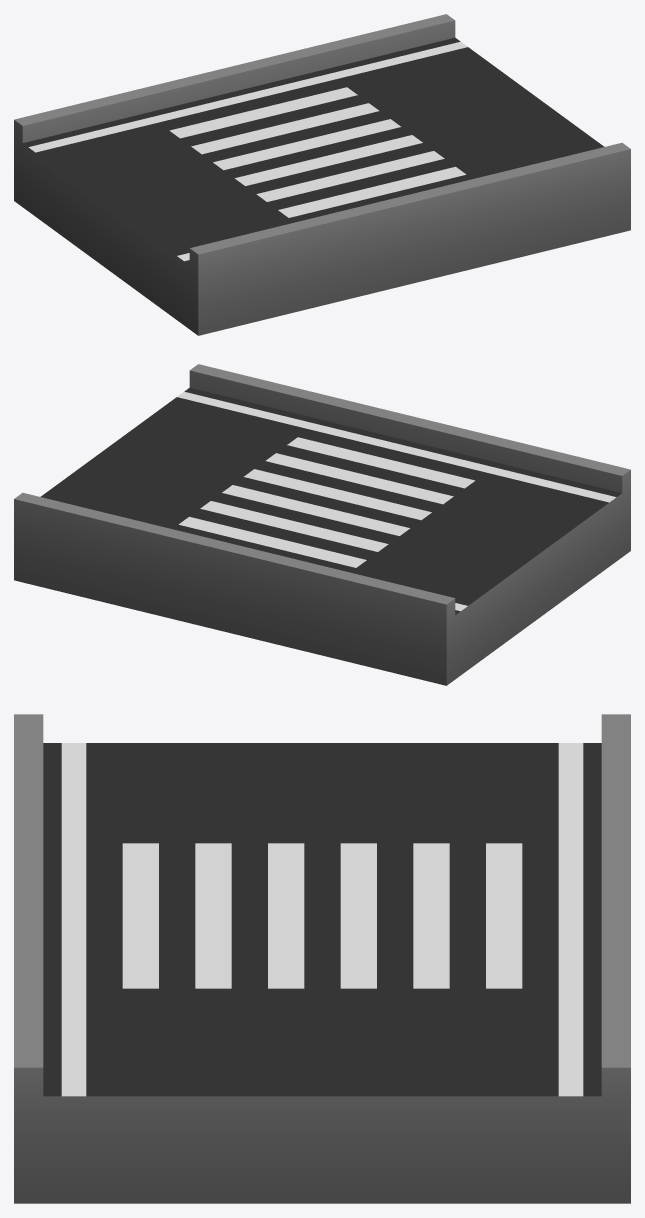
Rendered from Crosswalk_Straight.fbx.
The picture shows the model from 3 angles, top to bottom: view 1: azimuth 30°, elevation 25°; view 2: azimuth 150°, elevation 25°; view 3: azimuth 270°, elevation 25°; orthographic projection. The views are drawn at different scales.
Parts seen in each view (by area): view 1: Crosswalk_Straight; view 2: Crosswalk_Straight; view 3: Crosswalk_Straight.
Boxes of the visible parts, left/top/right/bottom form: Crosswalk_Straight: left=14, top=14, right=630, bottom=335; Crosswalk_Straight: left=14, top=364, right=630, bottom=685; Crosswalk_Straight: left=14, top=714, right=630, bottom=1203.
Bounding box in the file's own units: 270 × 48.52 × 199.
